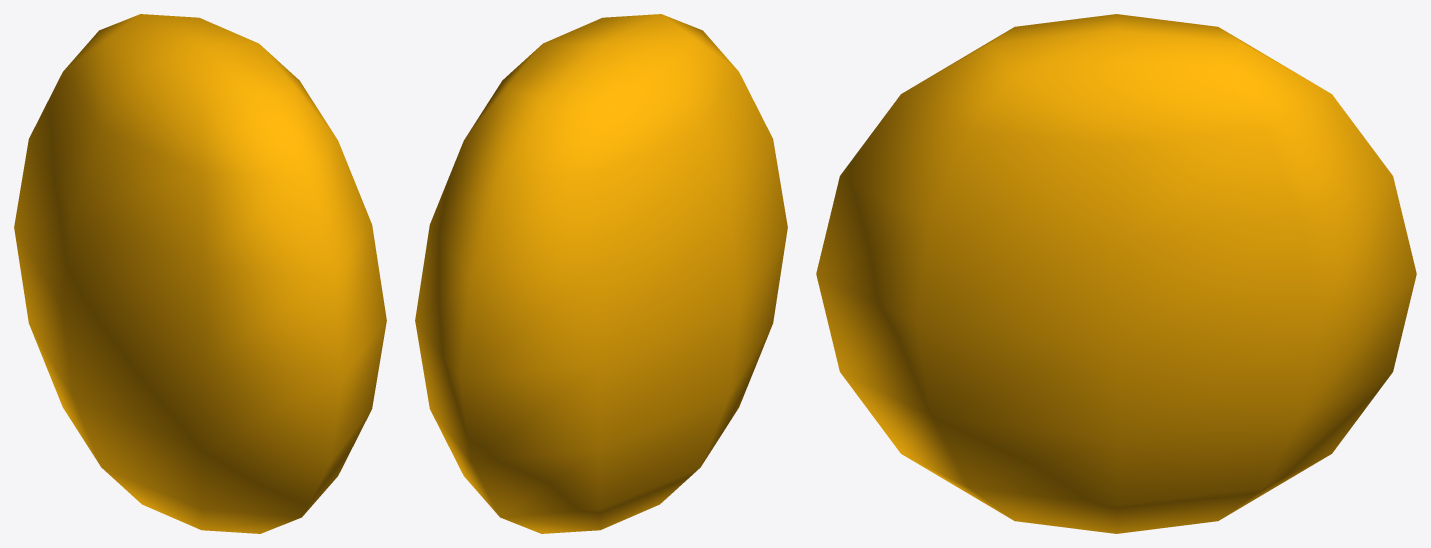
File: Orange.fbx
The picture shows the model from 3 angles, left to right: view 1: azimuth 30°, elevation 25°; view 2: azimuth 150°, elevation 25°; view 3: azimuth 270°, elevation 25°; orthographic projection. The views are drawn at different scales.
Visible parts, largest first — view 1: orange; view 2: orange; view 3: orange.
Boxes of the visible parts, x1,y1,x2,y2 form: orange: (14, 14, 386, 533); orange: (415, 14, 787, 533); orange: (816, 14, 1416, 533).
Bounding box in the file's own units: 0.0508 × 0.0804 × 0.09.
